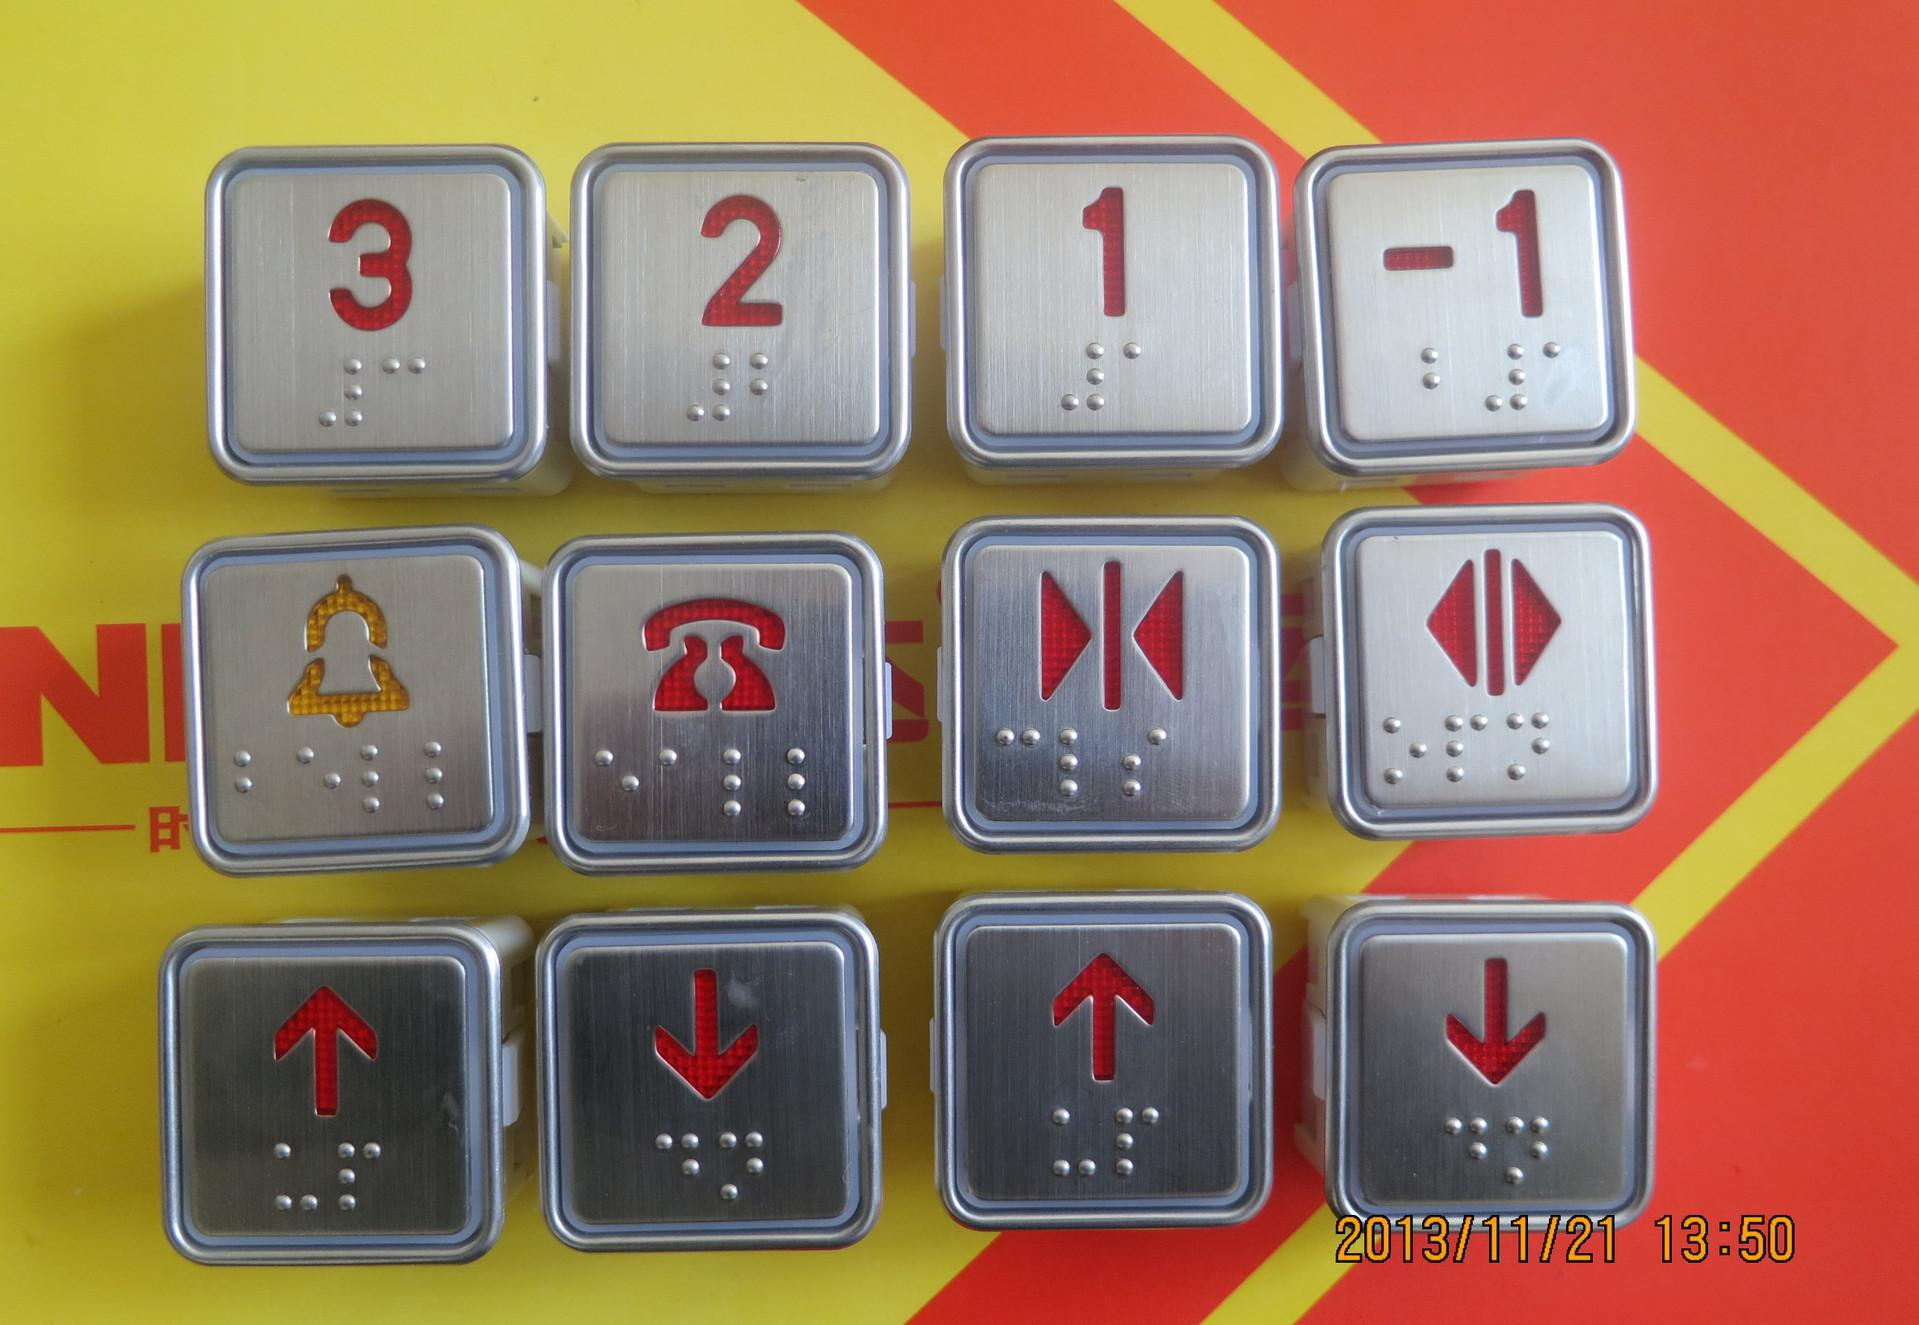Braille: (1483, 340, 1534, 415), (1508, 708, 1556, 786), (748, 350, 799, 421), (685, 348, 735, 421), (1124, 724, 1171, 802), (1063, 724, 1108, 803), (1384, 714, 1429, 792), (787, 743, 833, 819), (1445, 713, 1490, 789), (997, 724, 1041, 802), (595, 743, 640, 818), (295, 743, 341, 815), (424, 735, 467, 813), (1063, 338, 1105, 415), (1126, 340, 1169, 414), (1544, 335, 1588, 410), (663, 745, 709, 816), (321, 353, 365, 426), (360, 739, 401, 816), (1401, 344, 1445, 415), (230, 746, 276, 815), (725, 745, 766, 819), (384, 353, 426, 420)
